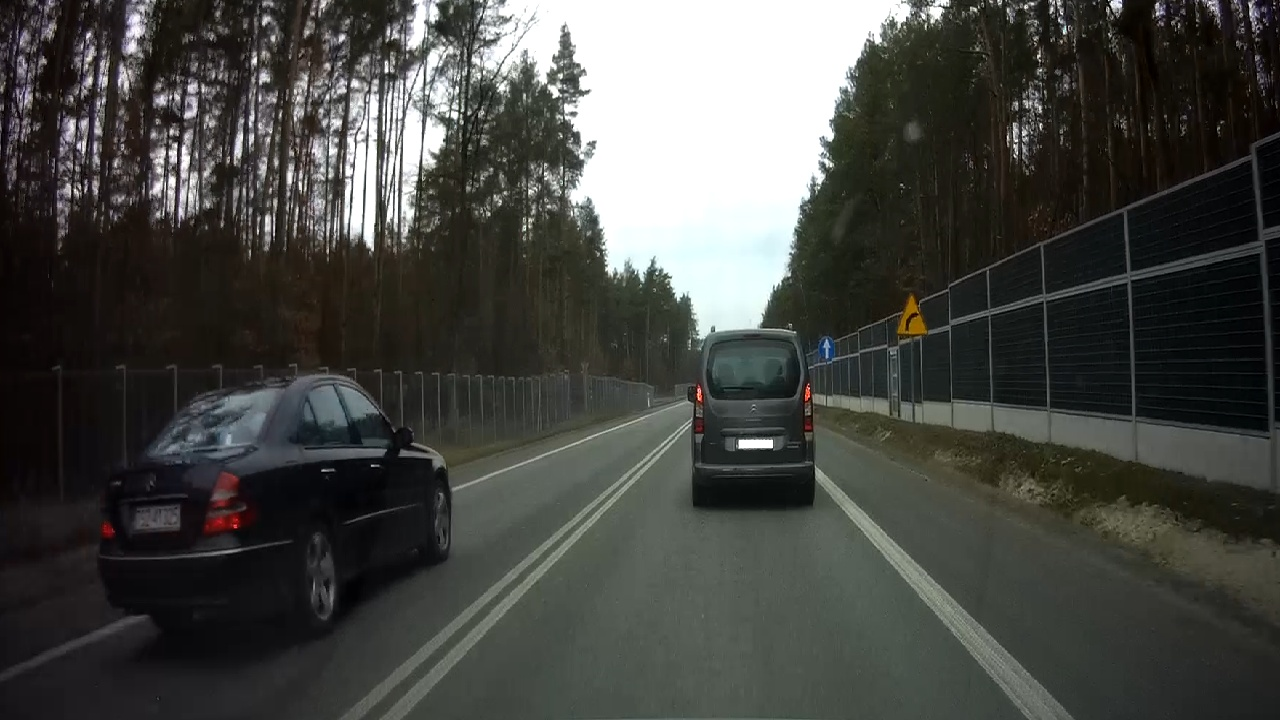A1: (893, 294, 929, 339)
